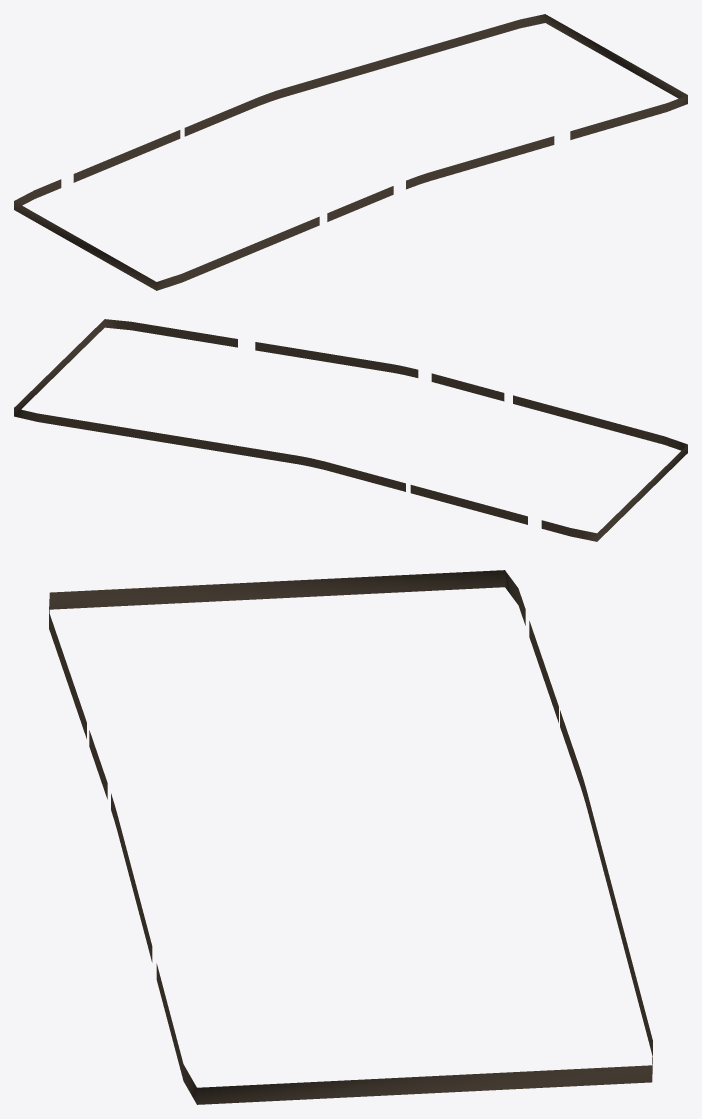
3 views of the same model, one above another, from view 1: azimuth 30°, elevation 25°; view 2: azimuth 150°, elevation 25°; view 3: azimuth 270°, elevation 25° (orthographic). The views are drawn at different scales.
Visible parts, largest first — view 1: prototype; view 2: prototype; view 3: prototype.
Part boxes in pixels (bbox=[...]): prototype: bbox=[14, 14, 687, 290]; prototype: bbox=[14, 319, 687, 541]; prototype: bbox=[49, 570, 652, 1104].
Bounding box in the file's own units: 22.25 × 1.24 × 10.22.
